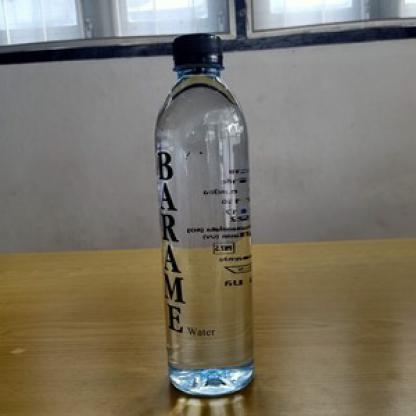bottle: (158, 31, 255, 402)
